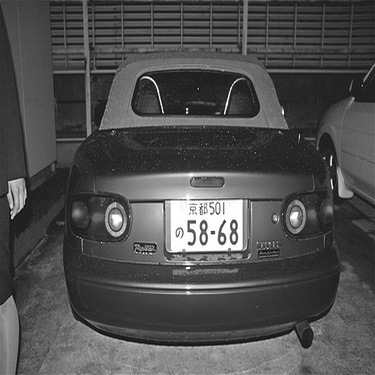car: (49, 38, 347, 352), (297, 50, 373, 231)
